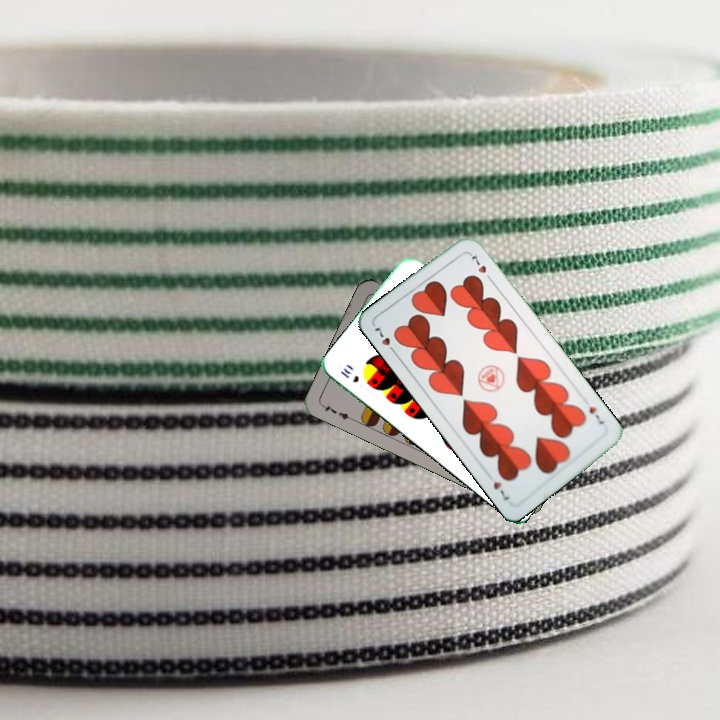E7: (318, 400, 356, 423)
H7: (370, 323, 399, 357), (585, 401, 607, 427)
S10: (336, 364, 362, 385)
